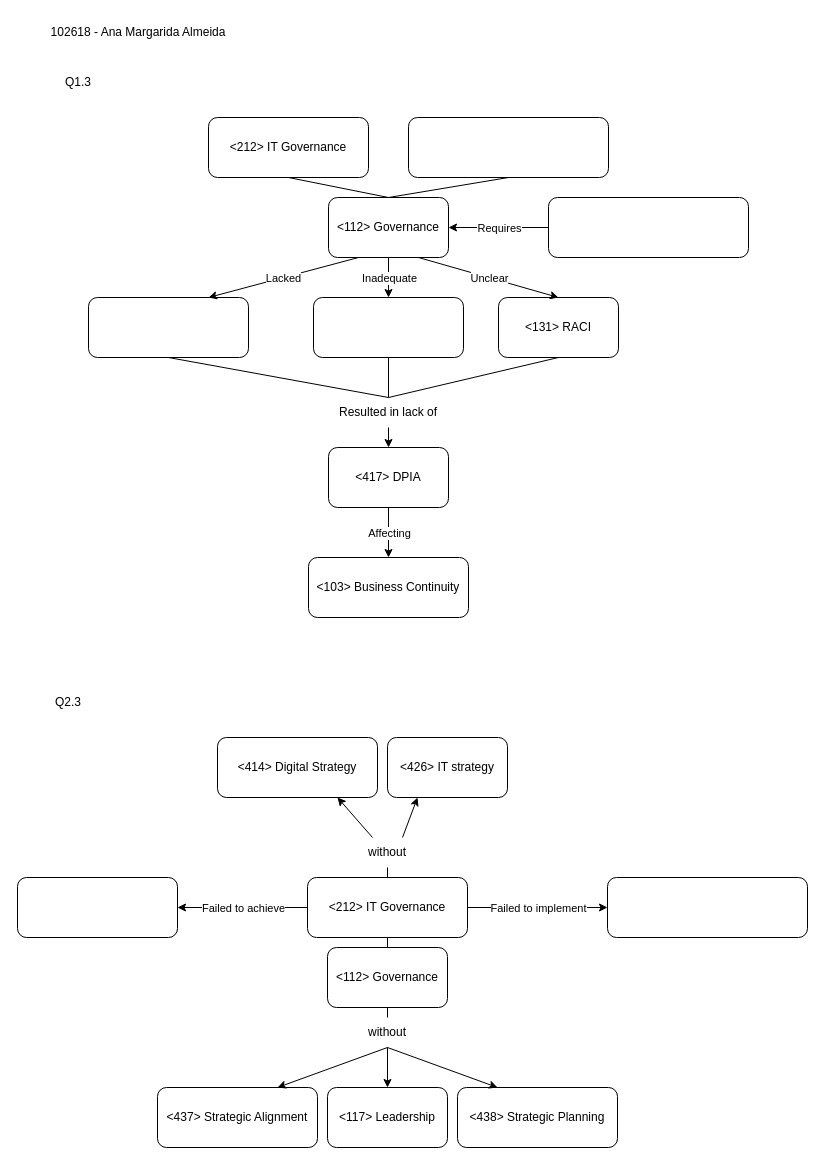
Image size: 825x1165. Some labels were removed from this diagram. Here are the shapes that lost their labels. From the top down, the centre of each, then its label:
point (508, 147): <107> Corporate Governance
point (648, 227): <404> Cloud-First Strategy
point (168, 327): <110> Due Diligence
point (388, 327): <135> Risk Management
point (97, 907): <412> Digital Maturity
point (707, 907): <419> Electronic Identification
